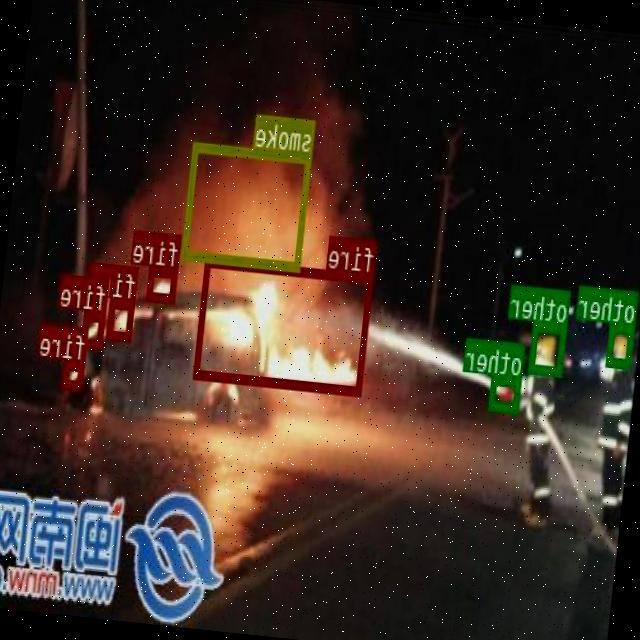fire: (194, 256, 376, 394), (107, 298, 136, 340), (148, 265, 179, 301), (82, 309, 106, 347), (62, 358, 86, 388)
smoke: (182, 140, 312, 270)
